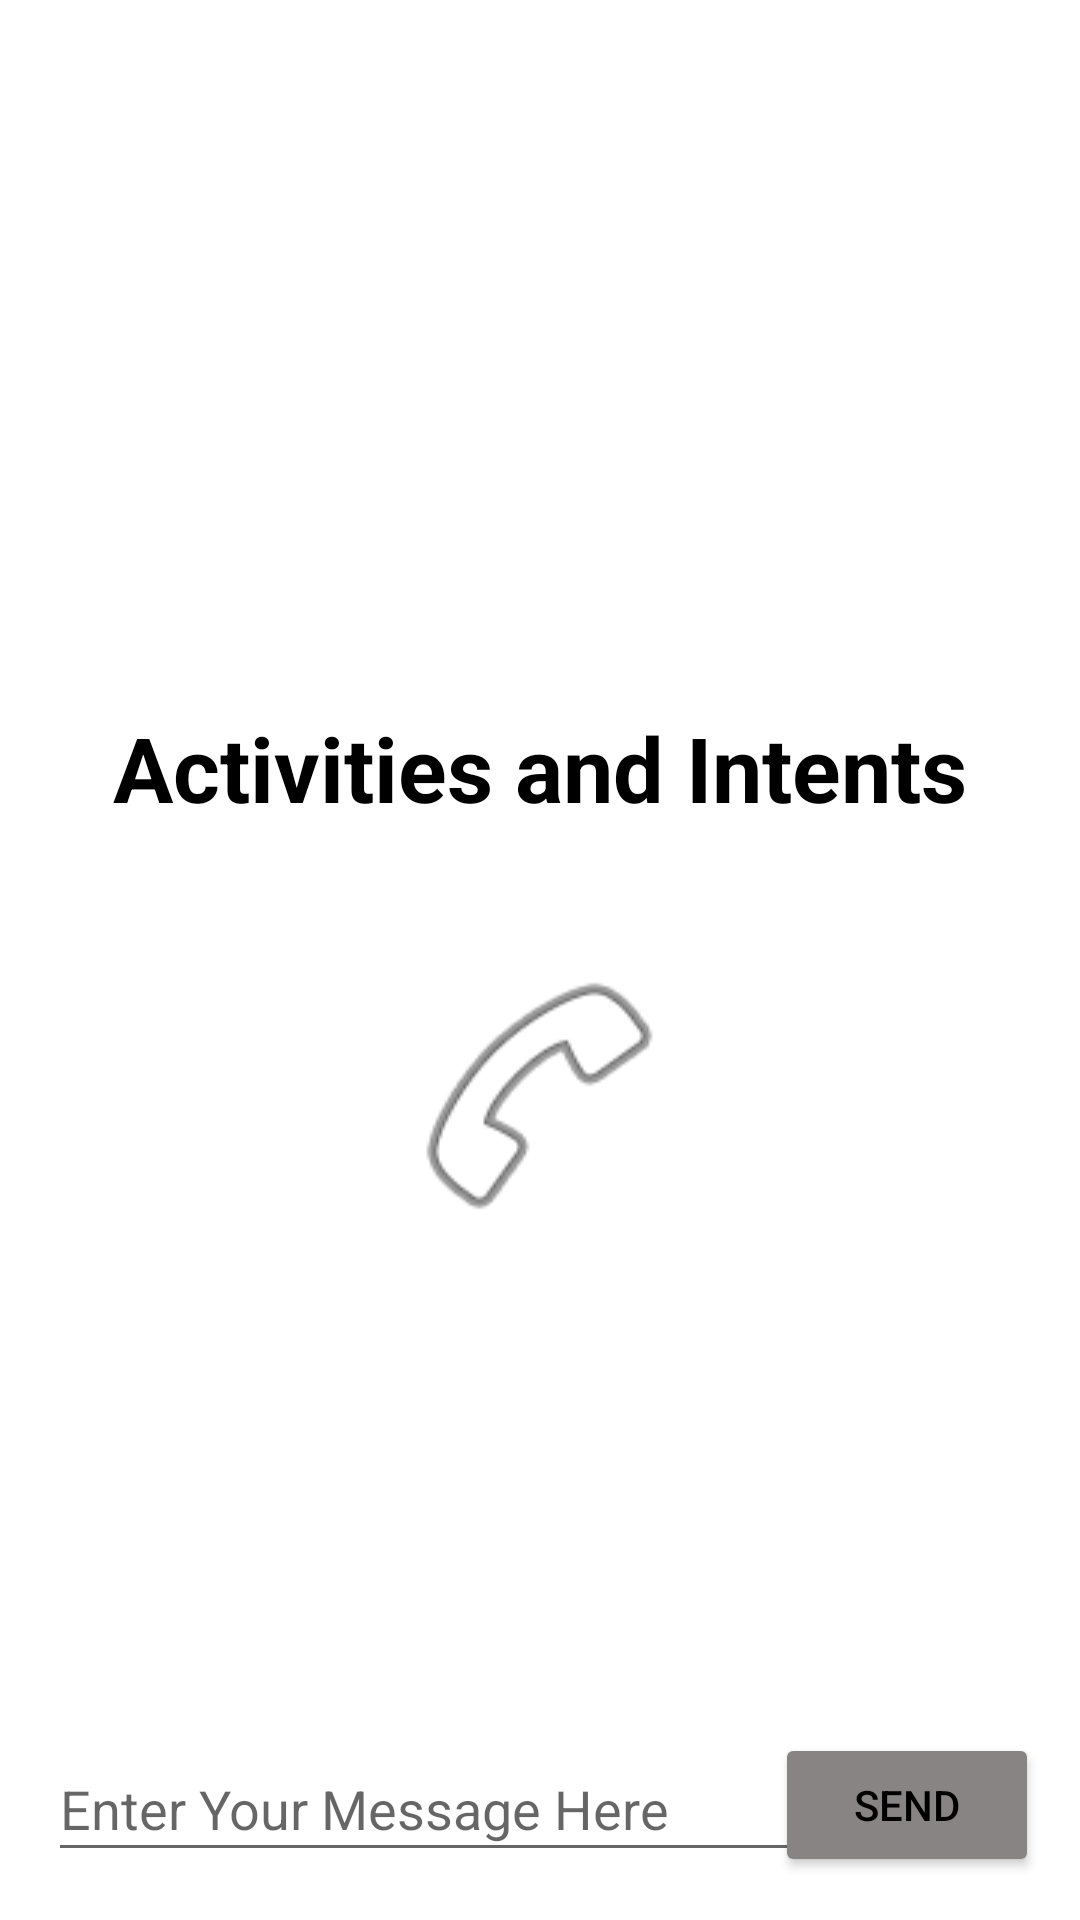

Icon click points for this 1080*1920 phone screenshot, format (x=x, y=y):
call: (x=539, y=1096)
